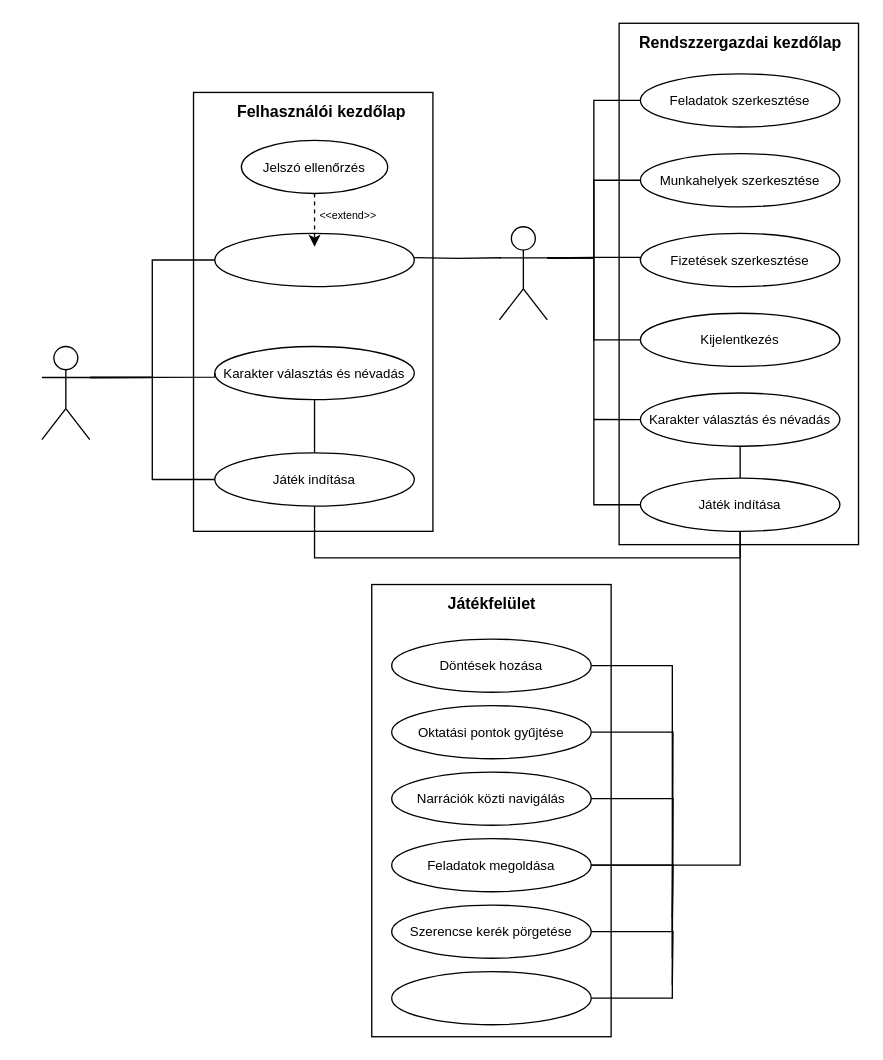
Image size: 883x1060. Some labels were removed from this diagram. Each missing label, with the centre of its shape:
"Befektetés" goes at (490,997).
"Bejelentkezés" goes at (313,259).
"Felhasználó" goes at (65,392).
"Rendszergazda" goes at (522,272).
